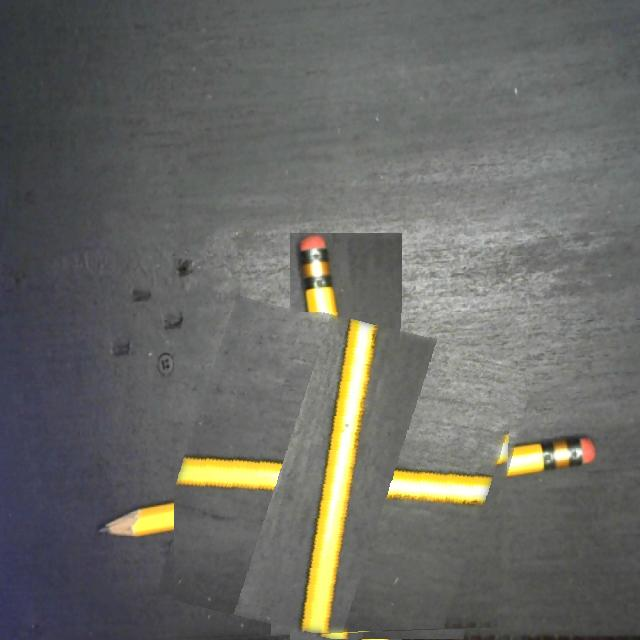biodegradable: (174, 312, 517, 640)
